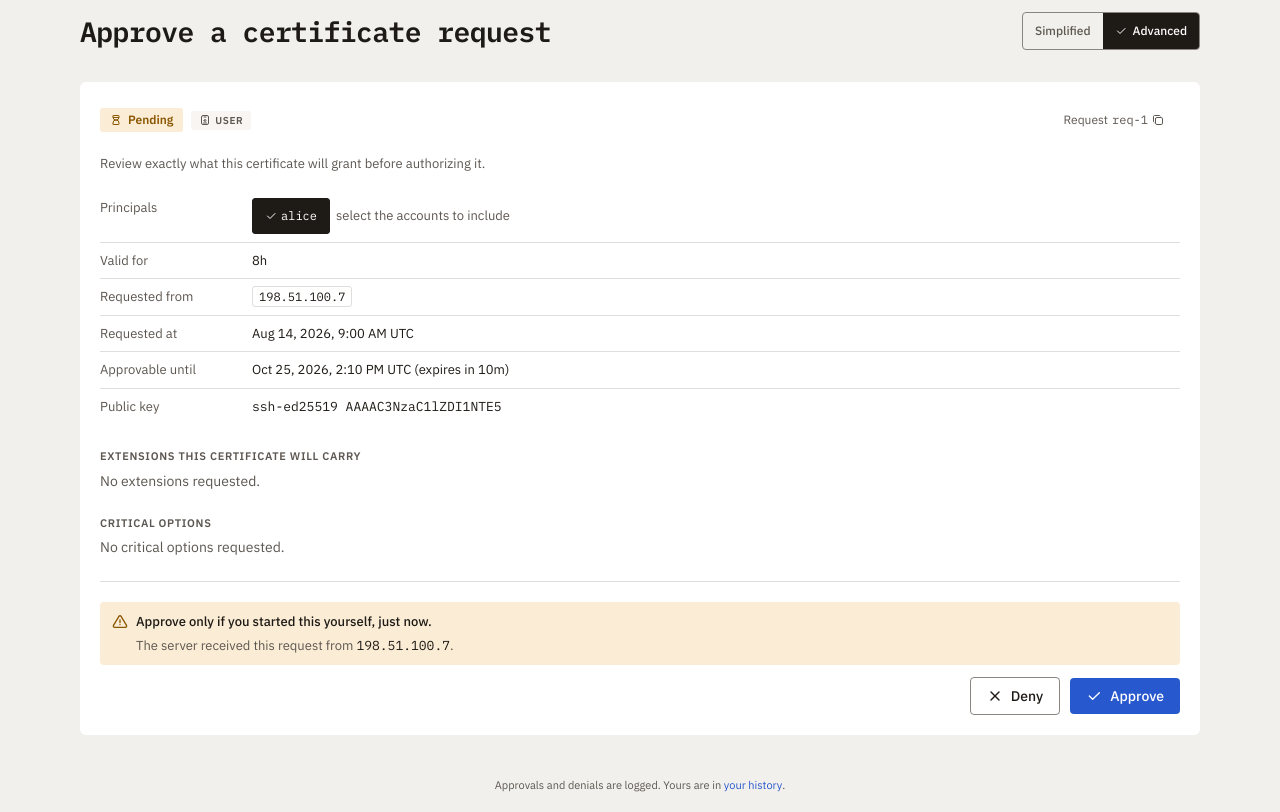
when a decision does not go through › should show the expiry when the request expired in the meantime
Click the button with test id "approve-button". click: (1125, 696)
box: [1070,678,1180,714]
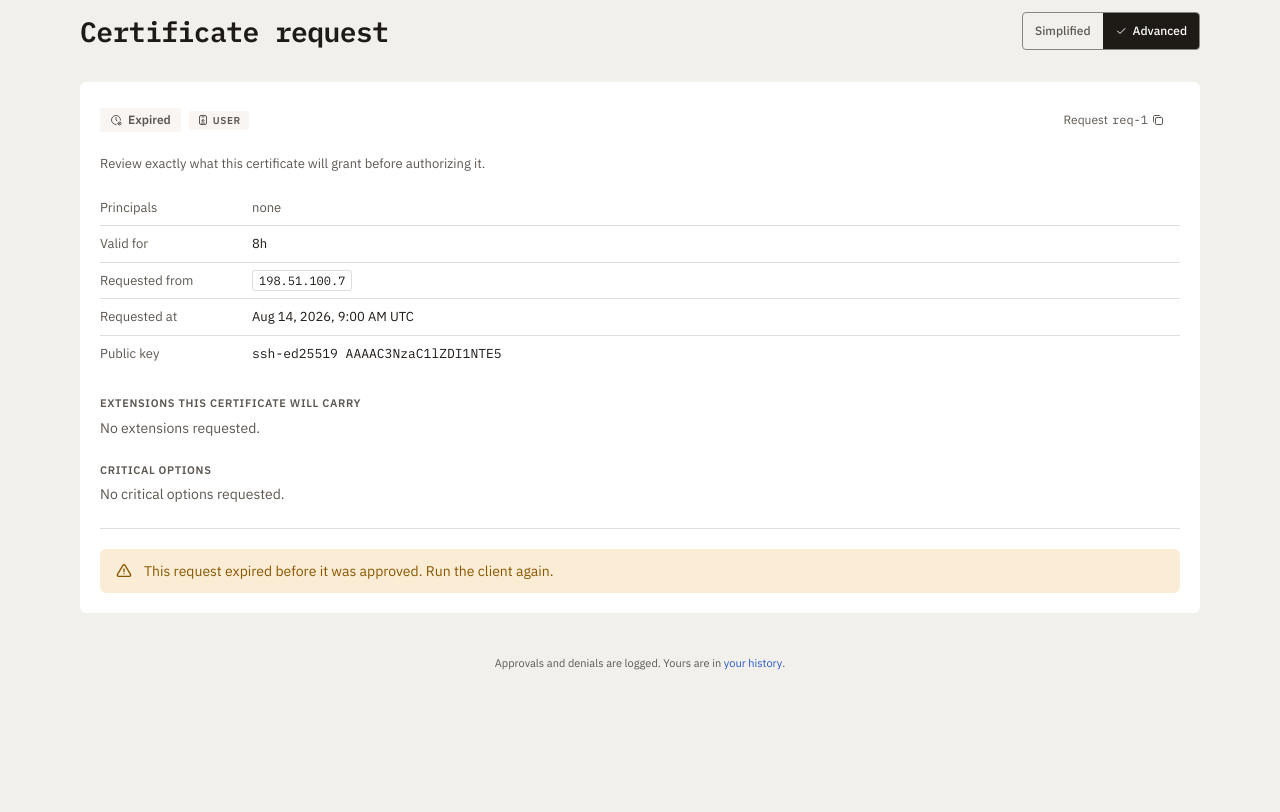
Expected: the message "This request expired before it was approved. Run the client again." is shown, [100,549,1180,593]
